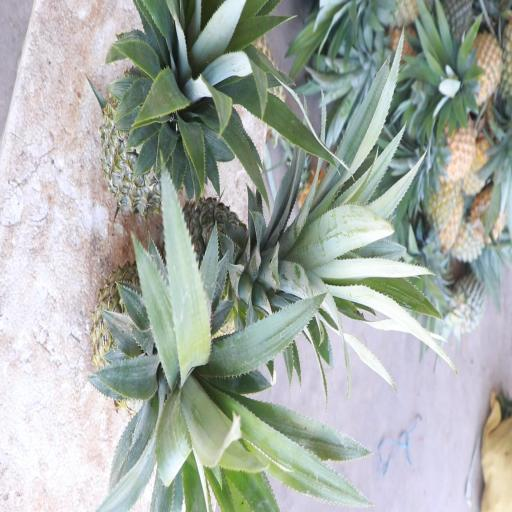------------------------------: (88, 262, 248, 418)
Pineapple - v8 v1: (452, 24, 503, 105), (430, 111, 477, 184)
